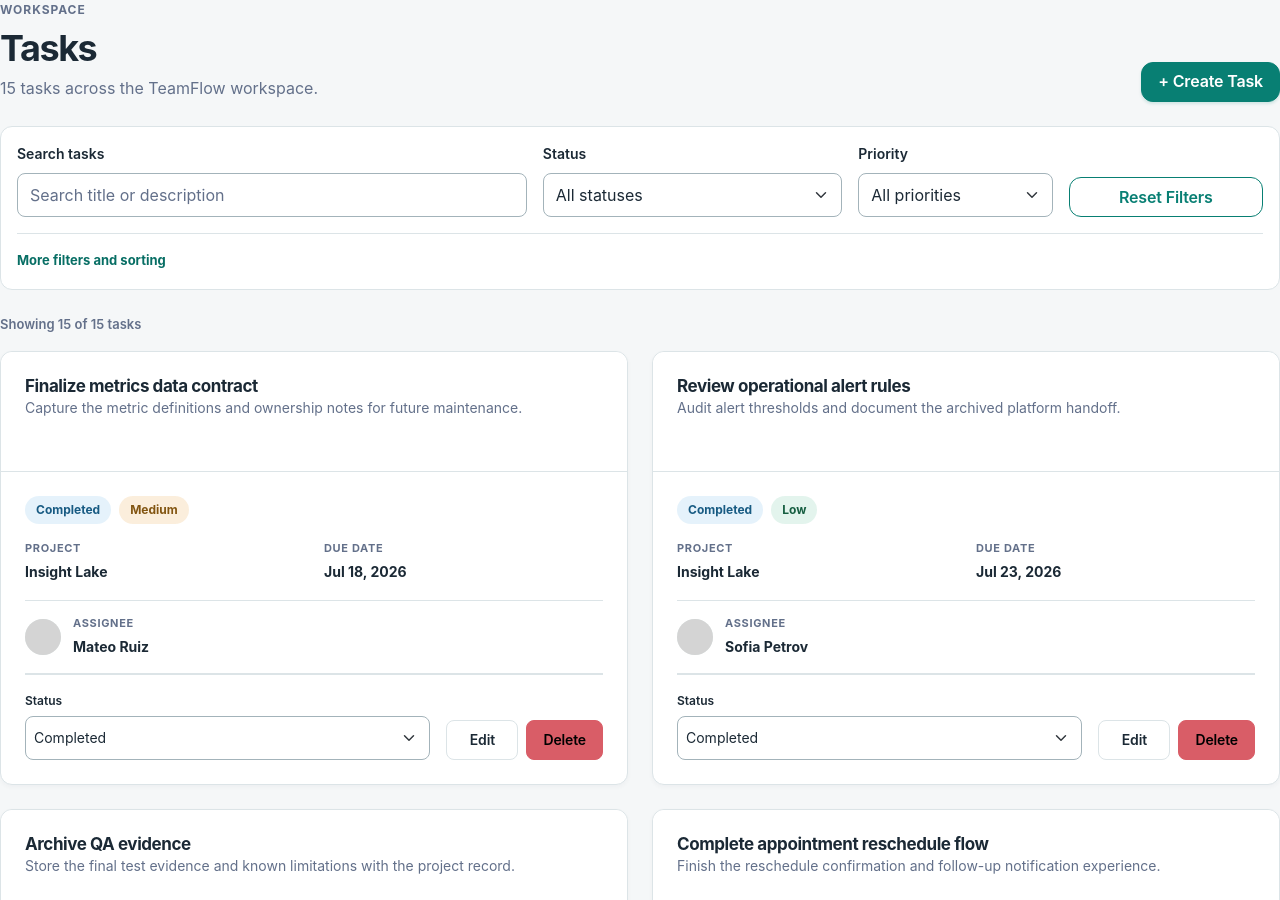
it: task workflows › rejects an invalid task form with validation messages
What coordinates should you click on to do the following:
click the button "+ Create Task"
I would click on:
 (1211, 82)
Its box is [1141, 62, 1279, 102].
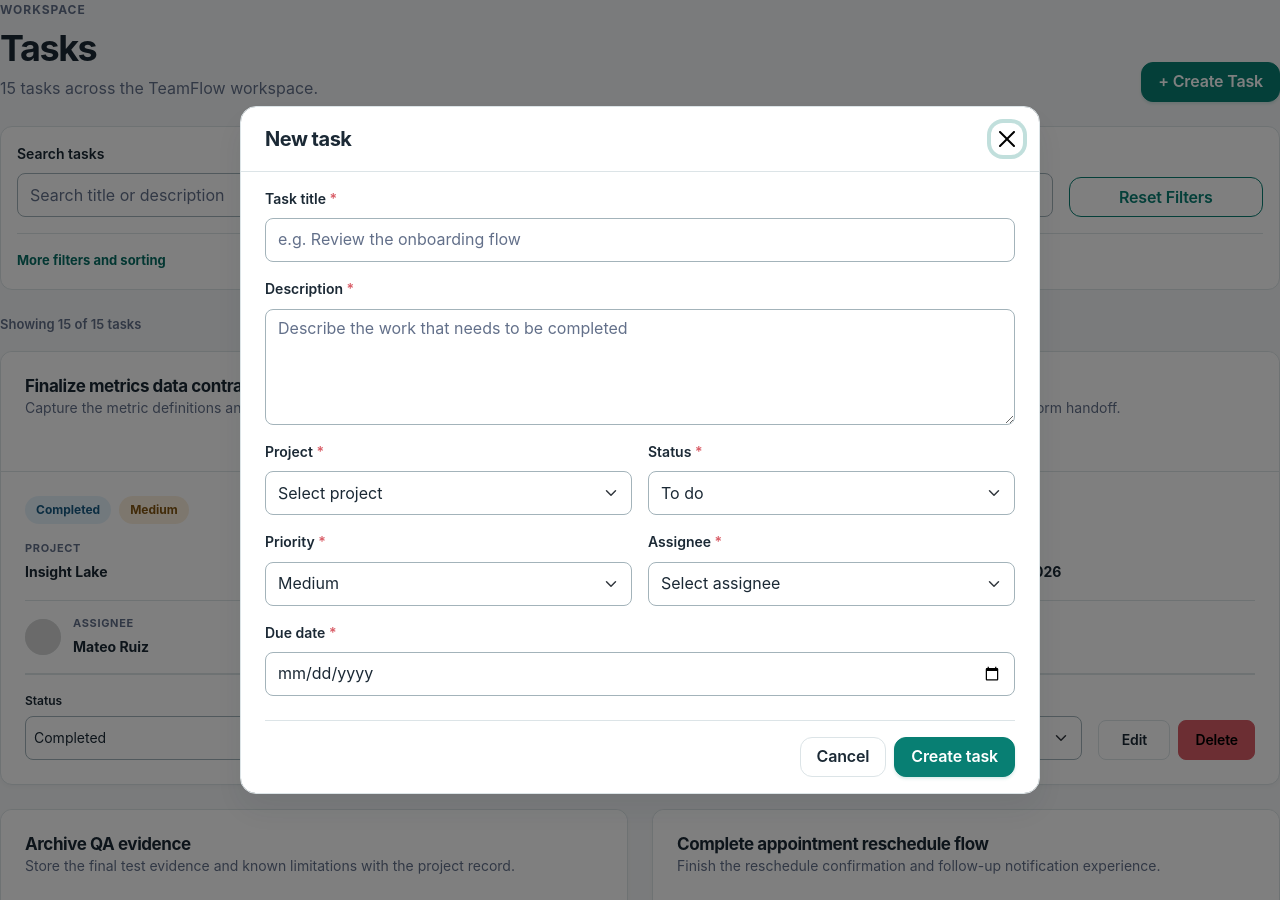
What coordinates should you click on to do the following:
click the button "Create task"
I would click on:
 (955, 757)
Its box is [894, 737, 1015, 777].
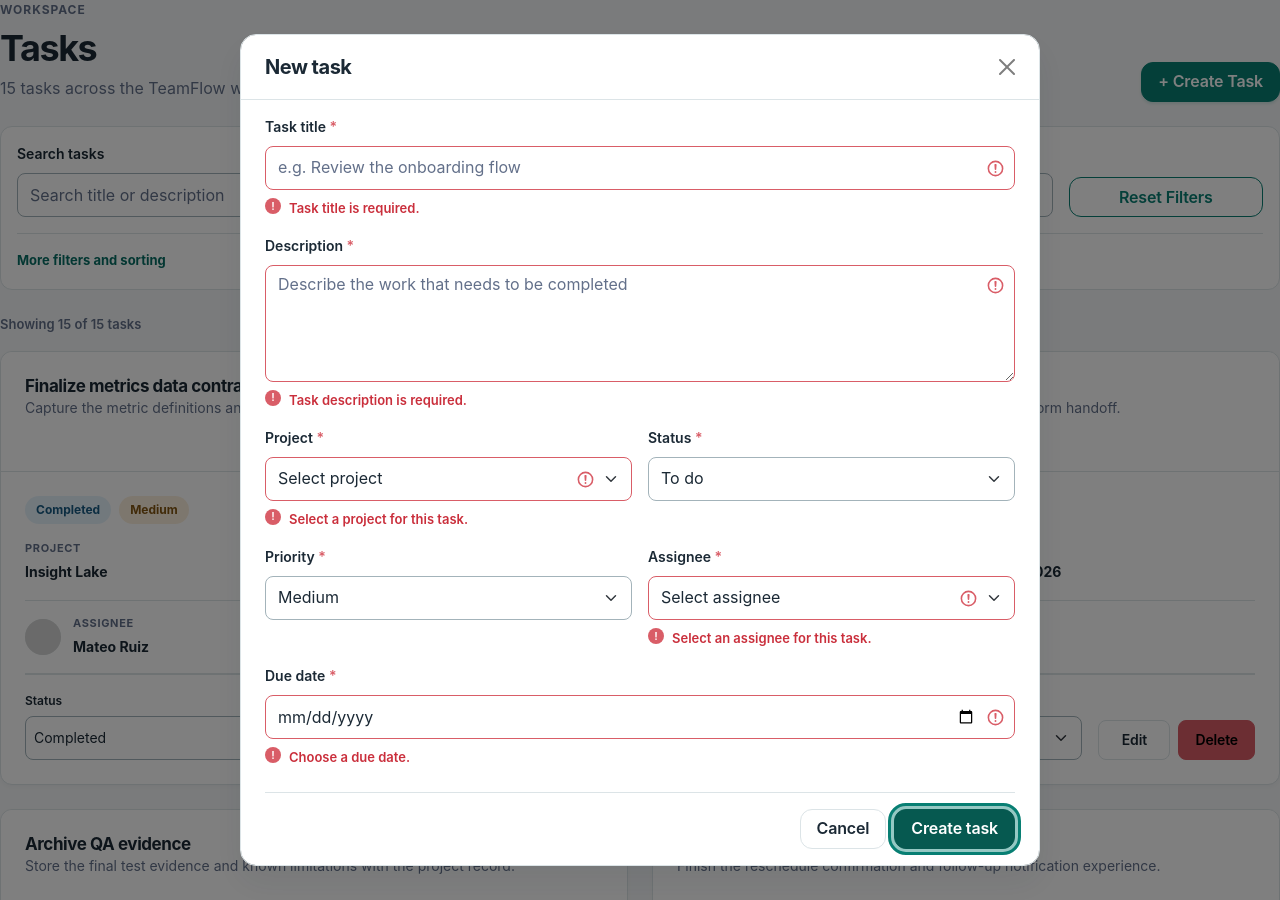
expect the text "Task title is required." is shown: met, box [289, 198, 420, 219]
expect the text "Task description is required." is shown: met, box [289, 390, 467, 411]
expect the text "Select a project for this task." is shown: met, box [289, 509, 468, 530]
